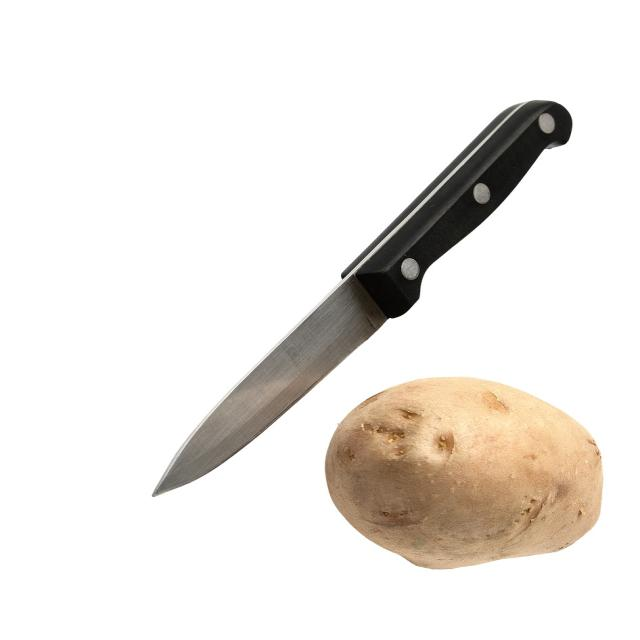Knife: (156, 101, 571, 492)
